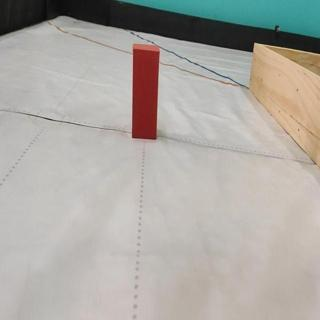redbox: (129, 42, 162, 141)
